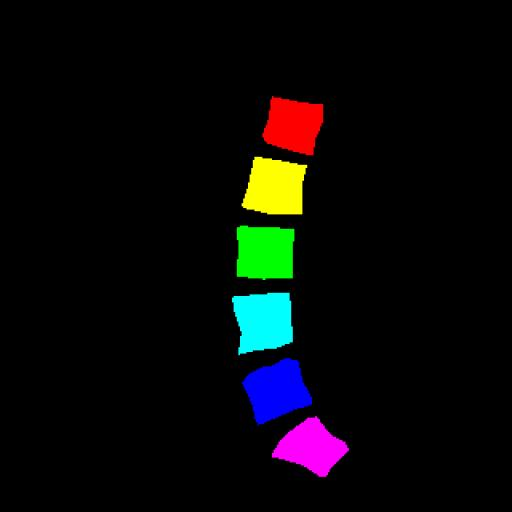L1: (262, 97, 323, 155)
L2: (242, 157, 307, 214)
L3: (237, 226, 294, 280)
L4: (232, 293, 293, 354)
L5: (243, 359, 312, 424)
S1: (272, 417, 349, 477)
